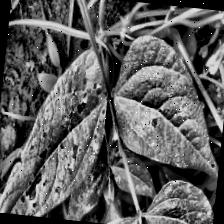ALS: (0, 47, 115, 223), (106, 29, 224, 186)
